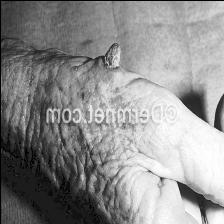Potentially Malignant Skin Tumors: (100, 42, 123, 69)
